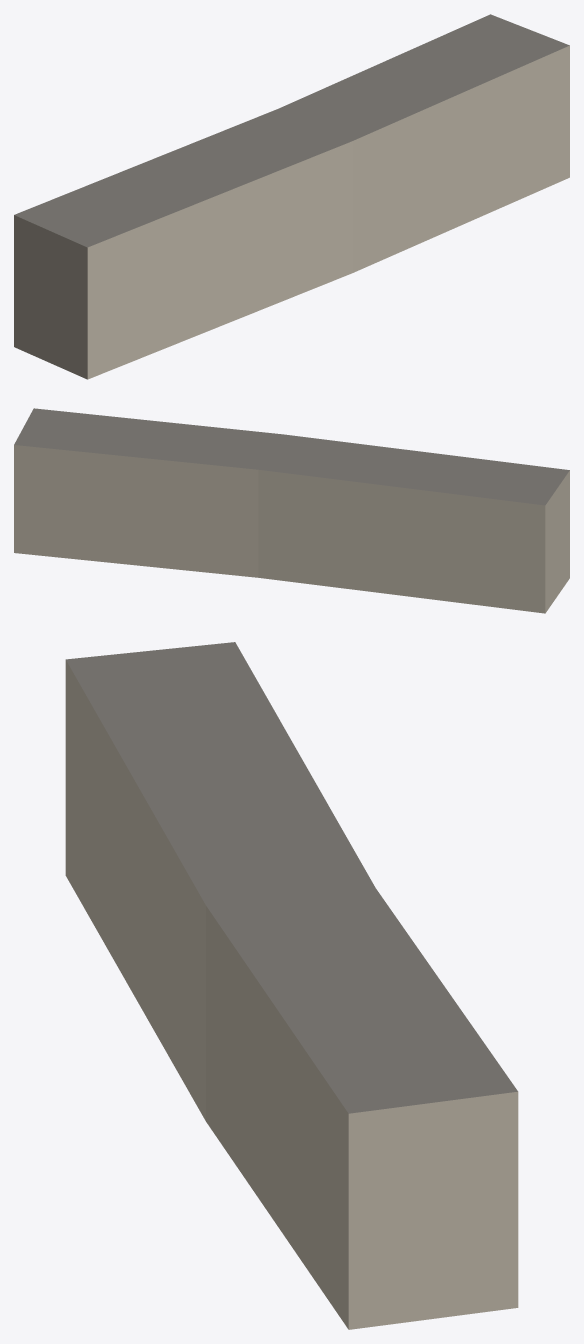
The picture shows the model from 3 angles, top to bottom: view 1: azimuth 30°, elevation 25°; view 2: azimuth 150°, elevation 25°; view 3: azimuth 270°, elevation 25°; orthographic projection. The views are drawn at different scales.
Parts seen in each view (by area): view 1: HP-w859457410; view 2: HP-w859457410; view 3: HP-w859457410.
Boxes of the visible parts, bbox=[...] form: HP-w859457410: bbox=[14, 14, 569, 379]; HP-w859457410: bbox=[14, 408, 569, 613]; HP-w859457410: bbox=[65, 642, 518, 1329].
Bounding box in the file's own units: 84.22 × 18 × 34.15.
